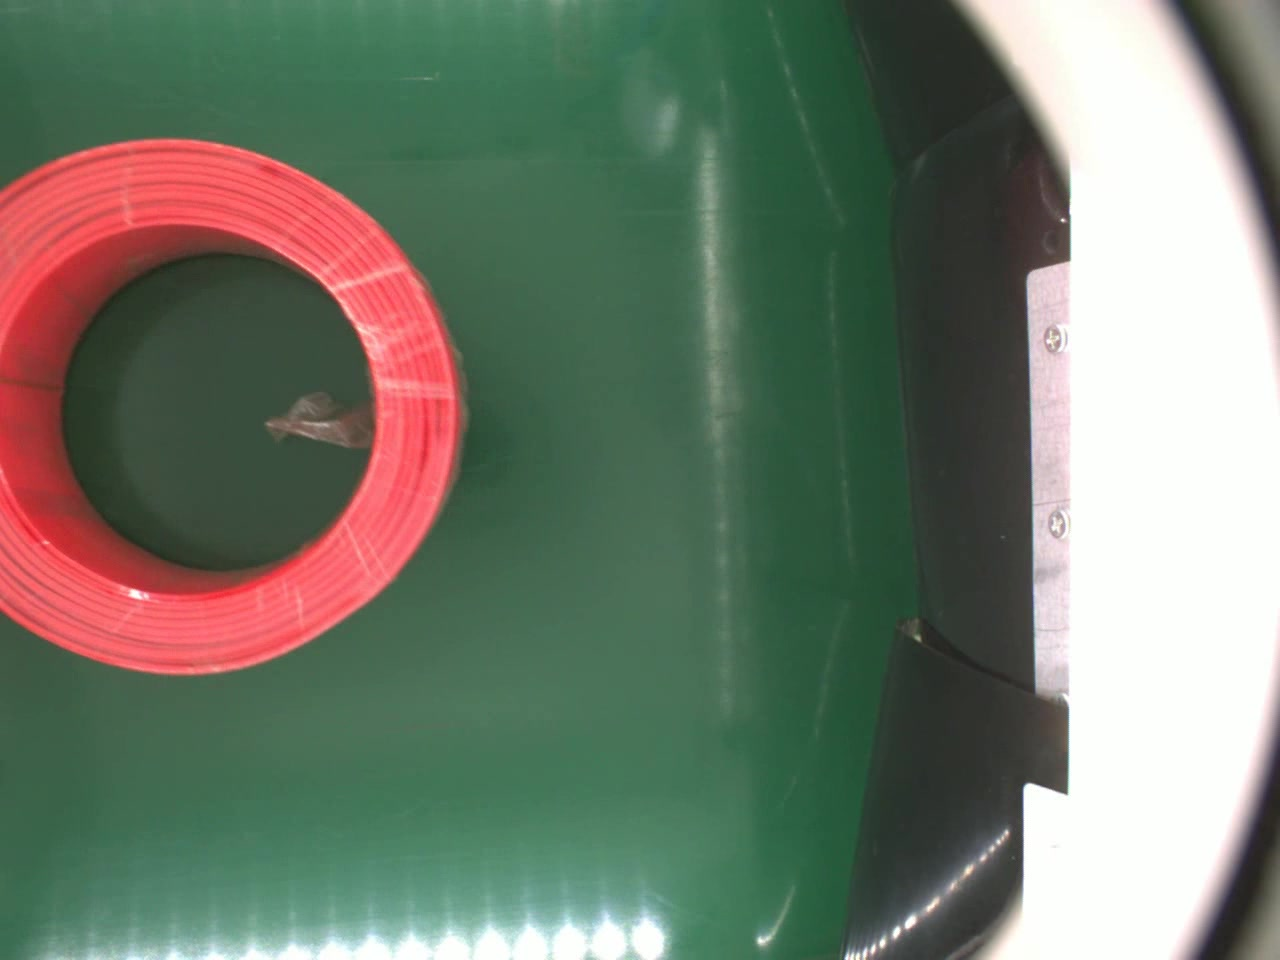red: (0, 136, 471, 680)
